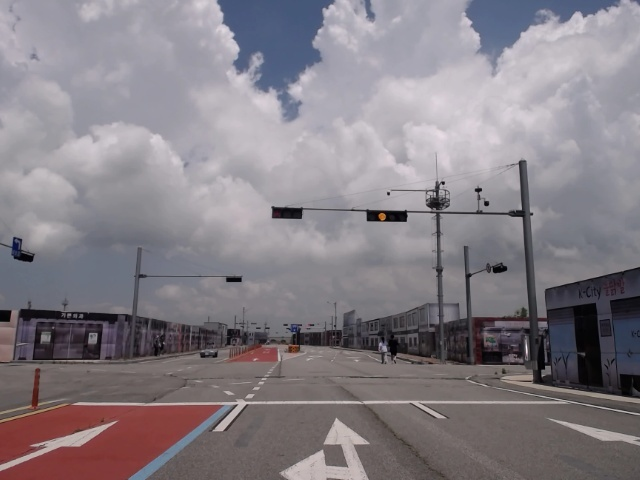orange_4: (366, 209, 408, 224)
